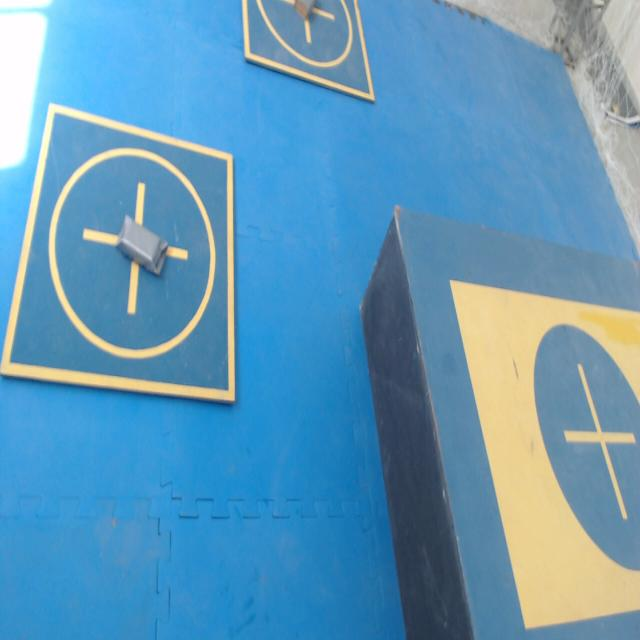lipo: (116, 215, 168, 274), (294, 0, 314, 20)
